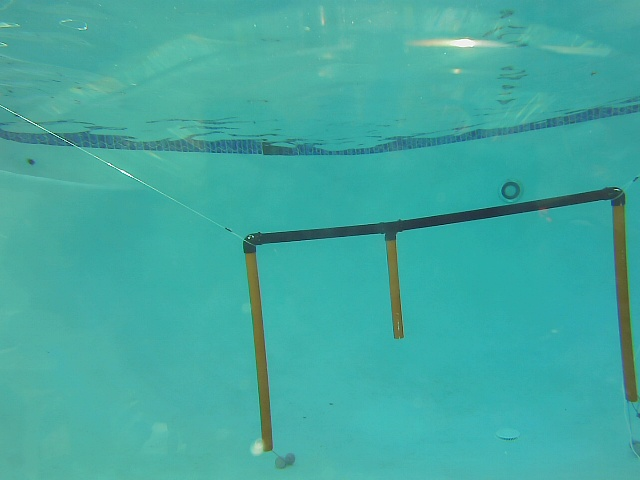Gate: (241, 246, 278, 454), (609, 197, 640, 403), (383, 233, 409, 341)
